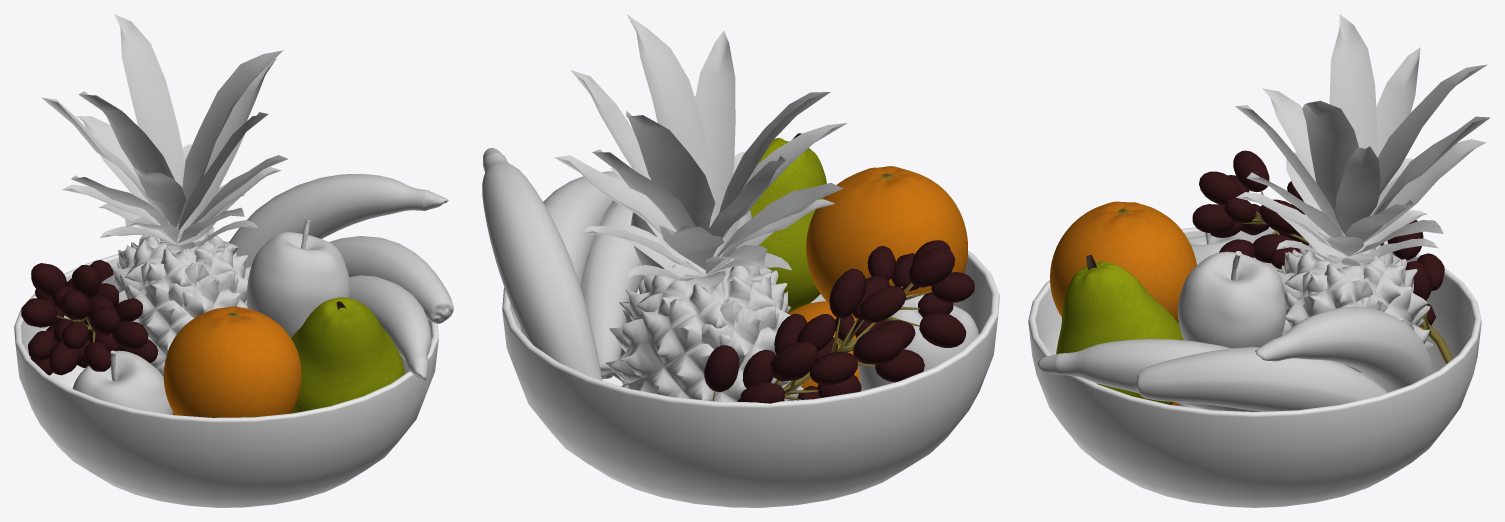
Rendered from apple_v1.fbx.
3 views of the same model, side by side, from view 1: azimuth 30°, elevation 25°; view 2: azimuth 150°, elevation 25°; view 3: azimuth 270°, elevation 25° (orthographic). The views are drawn at different scales.
Parts seen in each view (by area): view 1: pineapple.001, glass_2, orange, grapes, pear, banana.002, apple.002, banana.001, banana, apple, glass_1; view 2: pineapple.001, glass_2, grapes, banana.002, orange, banana, pear, banana.001, glass_1, apple, orange.001, apple.002; view 3: pineapple.001, glass_2, banana.001, orange, grapes, apple.002, banana.002, pear, glass_1, banana, apple.
Boxes of the visible parts, box(x1,y1,x2,y2) form: pineapple.001: box(41, 14, 287, 376); glass_2: box(14, 241, 438, 507); orange: box(163, 306, 301, 417); grapes: box(21, 260, 158, 375); pear: box(291, 297, 404, 413); banana.002: box(229, 173, 448, 267); apple.002: box(247, 220, 350, 337); banana.001: box(329, 236, 453, 323); banana: box(349, 275, 431, 380); apple: box(72, 350, 173, 414); glass_1: box(17, 242, 435, 418); pineapple.001: box(554, 14, 847, 401); glass_2: box(502, 250, 999, 507); grapes: box(704, 240, 974, 403); banana.002: box(482, 148, 602, 380); orange: box(806, 166, 967, 314); banana: box(581, 200, 643, 378); pear: box(750, 133, 826, 313); banana.001: box(520, 171, 615, 333); glass_1: box(506, 252, 995, 403); apple: box(858, 294, 978, 390); orange.001: box(788, 301, 861, 391); apple.002: box(631, 210, 751, 267); pineapple.001: box(1235, 14, 1489, 382); glass_2: box(1028, 227, 1481, 507); banana.001: box(1135, 347, 1387, 411); orange: box(1050, 201, 1196, 323); grapes: box(1192, 150, 1452, 364); apple.002: box(1178, 251, 1286, 348); banana.002: box(1255, 306, 1433, 392); pear: box(1056, 255, 1183, 404); glass_1: box(1031, 227, 1478, 412); banana: box(1037, 339, 1260, 411); apple: box(1187, 232, 1261, 264).
Bounding box in the file's own units: 670 × 601 × 616.
